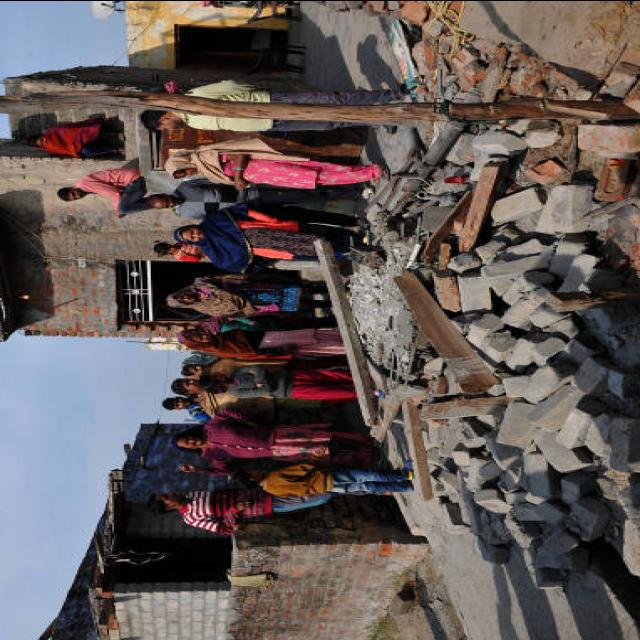civilian: (173, 408, 370, 474), (174, 204, 369, 270), (164, 139, 387, 189), (147, 178, 372, 225), (152, 489, 337, 534), (168, 276, 327, 317), (173, 377, 327, 418), (231, 461, 410, 495), (141, 109, 387, 131), (198, 365, 355, 398), (178, 328, 343, 359), (186, 81, 404, 104), (57, 167, 157, 216), (25, 118, 119, 158), (183, 356, 345, 377), (163, 397, 209, 419), (154, 244, 209, 260)
